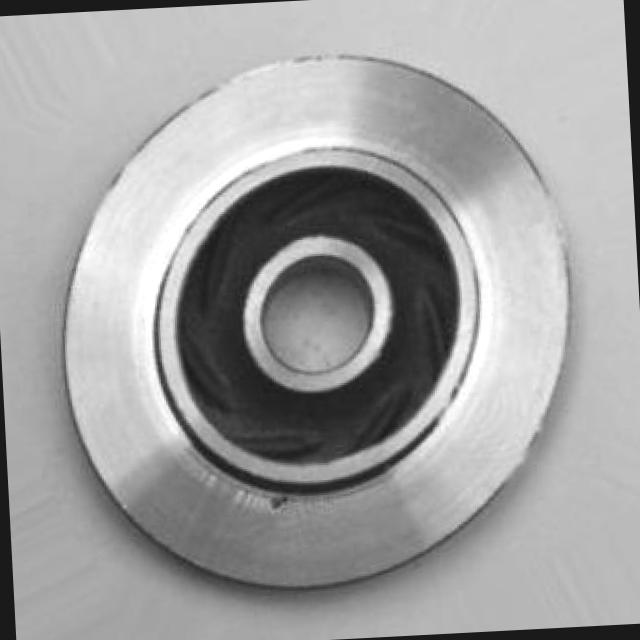Defect: (269, 486, 292, 517)
